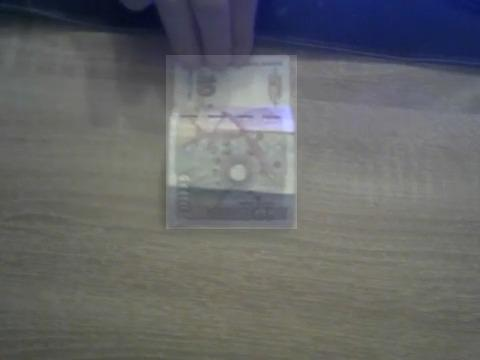10leva: (166, 55, 297, 229)
